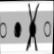correct: (13, 17, 22, 44)
not correct: (23, 3, 43, 51)
